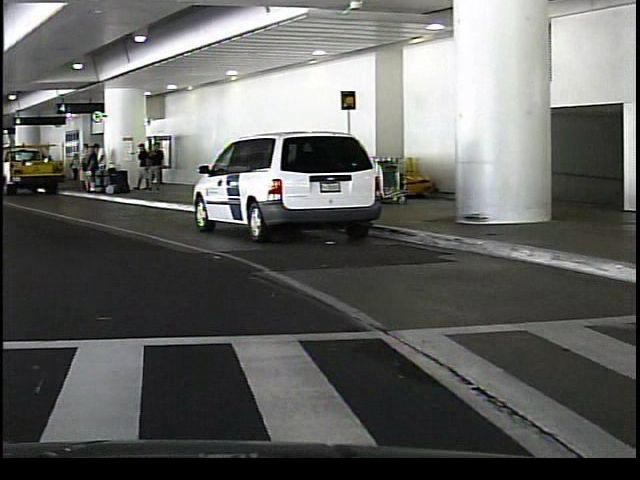person: (147, 139, 164, 192), (75, 140, 90, 192)
